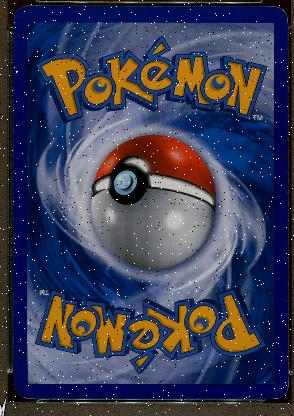Card: (8, 2, 290, 402)
Corner Wear: (260, 376, 288, 400), (12, 3, 40, 21), (268, 4, 287, 23), (16, 392, 36, 400)
Edge Wear: (13, 294, 15, 370), (285, 206, 287, 264)
